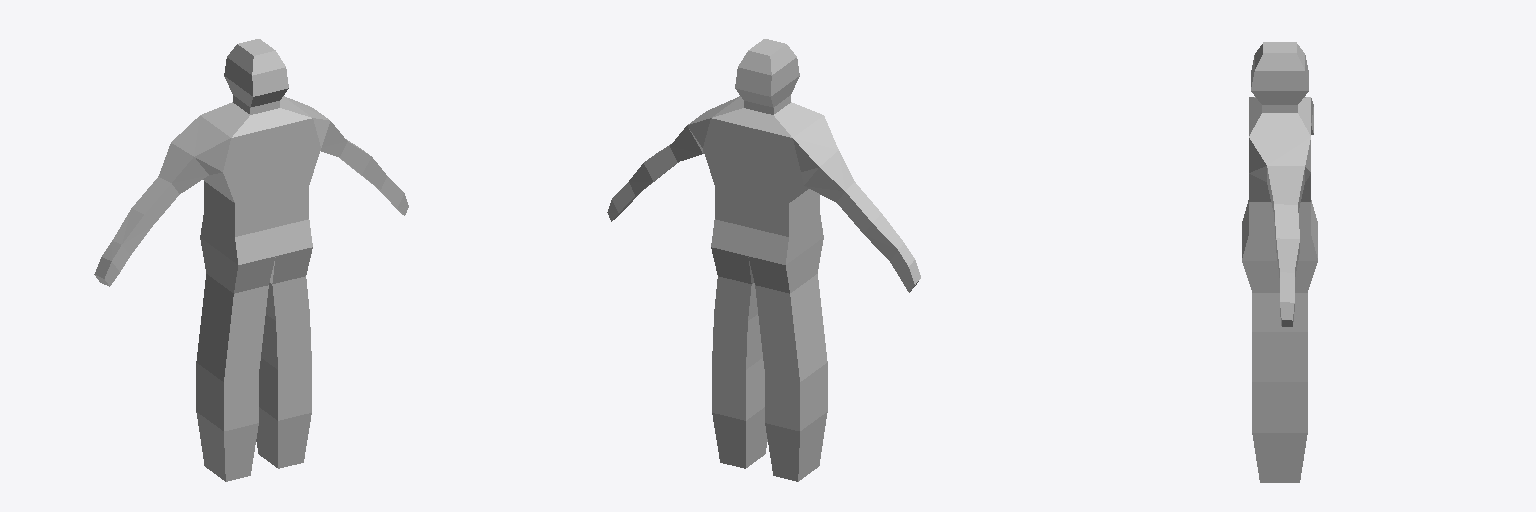
File: low_res2.obj
3 views of the same model, side by side, from view 1: azimuth 30°, elevation 25°; view 2: azimuth 150°, elevation 25°; view 3: azimuth 270°, elevation 25° (orthographic).
Parts seen in each view (by area): view 1: object__5; view 2: object__5; view 3: object__5.
Boxes of the visible parts, <box> form: object__5: <box>94,39,408,481</box>; object__5: <box>607,39,920,481</box>; object__5: <box>1242,42,1317,482</box>.
Size of the model in its own units: 140 by 181 by 30.22.